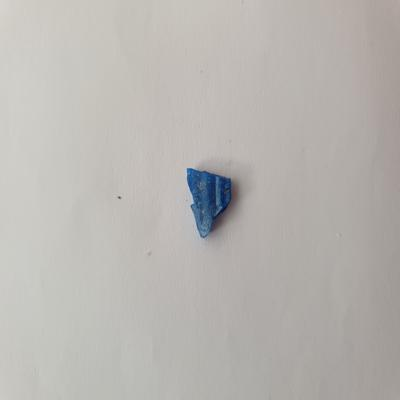plastic: (181, 164, 241, 240)
